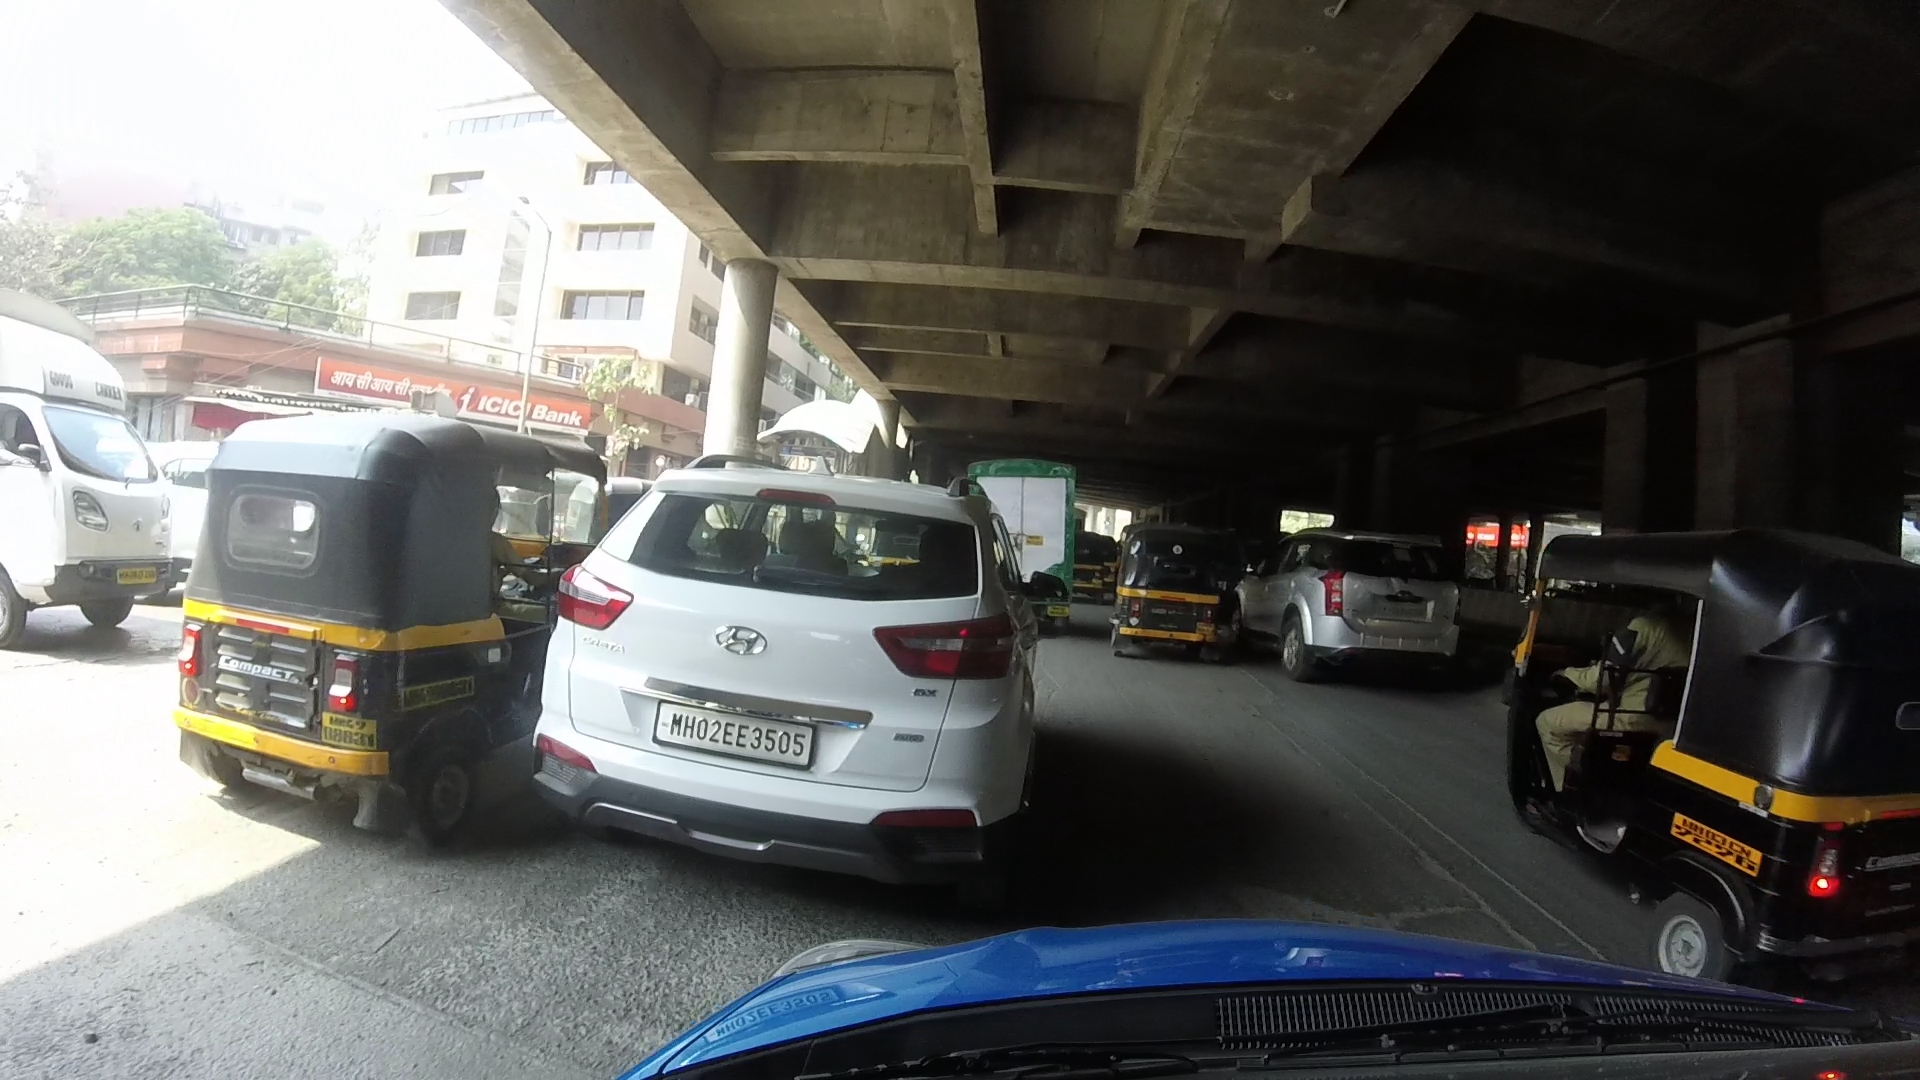car: (531, 472, 1011, 869), (1261, 524, 1466, 669)
rickshaw: (161, 401, 599, 827), (1509, 545, 1920, 967), (1108, 516, 1218, 657)
truck: (8, 313, 169, 633), (963, 454, 1084, 592)
